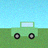vehicle: (11, 22, 37, 39)
